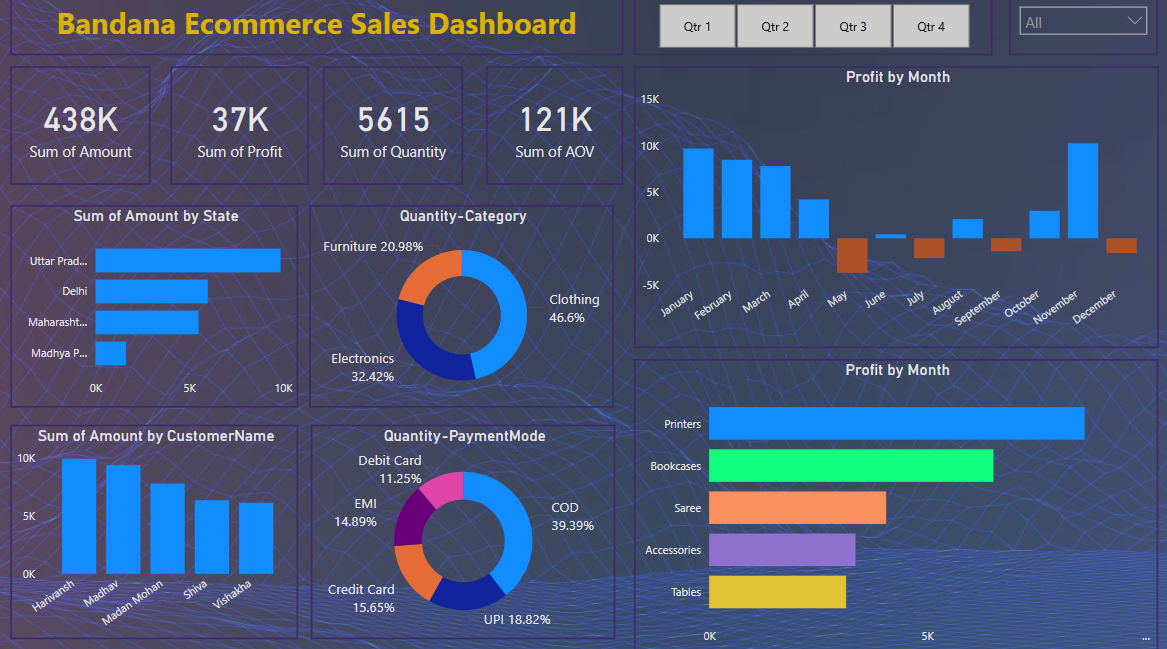

Layout of this report page (visuals, bound fields, positions):
{"tool":"powerbi","page":{"name":"Page 1","canvas":[1280,720],"ordinal":0},"visuals":[{"type":"columnChart","title":"Profit by Month","fields":{"Category":["Orders.Order Date.Variation.Date Hierarchy.Month"],"Y":["Sum(Details.Profit)"]},"box":[694.5,76,573.6,308.5],"z":0},{"type":"barChart","title":"Profit by Month","fields":{"Category":["Details.Sub-Category"],"Y":["Sum(Details.Profit)"]},"box":[695.1,396.1,572.8,324],"z":1000},{"type":"donutChart","title":"Quantity-Category","fields":{"Category":["Details.Category"],"Y":["Sum(Details.Quantity)"]},"box":[340,228.3,333.3,221.7],"z":2000},{"type":"donutChart","title":"Quantity-PaymentMode","fields":{"Y":["Sum(Details.Quantity)"],"Category":["Details.PaymentMode"]},"box":[341.7,468.3,333.3,235],"z":3000},{"type":"card","fields":{"Values":["Sum(Details.Quantity)"]},"box":[355,76.7,153.3,130],"z":4000},{"type":"card","fields":{"Values":["Sum(Details.Profit)"]},"box":[188.3,76.7,151.7,130],"z":5000},{"type":"card","fields":{"Values":["Sum(Details.AOV)"]},"box":[533.3,76.7,150,130],"z":6000},{"type":"card","fields":{"Values":["Sum(Details.Amount)"]},"box":[13.3,76.7,153.3,130],"z":7000},{"type":"textbox","box":[13.3,0,670,65],"z":8000},{"type":"barChart","fields":{"Y":["Sum(Details.Amount)"],"Category":["Orders.State"]},"box":[13.3,228.3,315,221.7],"z":9000},{"type":"columnChart","fields":{"Y":["Sum(Details.Amount)"],"Category":["Orders.CustomerName"]},"box":[13,468,315,235],"z":10000},{"type":"slicer","fields":{"Values":["Orders.Order Date.Variation.Date Hierarchy.Quarter"]},"box":[694.5,0,392.2,65.1],"z":11000},{"type":"slicer","fields":{"Values":["Orders.City"]},"box":[1105.3,0,162.8,65.1],"z":12000}]}

Visuals, with their boxes in screenshot pixels (x1, y1, x2, y2), scaled from the page's 1280x720 canvas onto the 1167x649 screenshot:
"Profit by Month" columnChart: <region>633, 69, 1156, 347</region>
"Profit by Month" barChart: <region>634, 357, 1156, 648</region>
"Quantity-Category" donutChart: <region>310, 206, 614, 406</region>
"Quantity-PaymentMode" donutChart: <region>312, 422, 615, 634</region>
card - Sum(Details.Quantity): <region>324, 69, 463, 186</region>
card - Sum(Details.Profit): <region>172, 69, 310, 186</region>
card - Sum(Details.AOV): <region>486, 69, 623, 186</region>
card - Sum(Details.Amount): <region>12, 69, 152, 186</region>
textbox: <region>12, 0, 623, 59</region>
barChart - Sum(Details.Amount) x Orders.State: <region>12, 206, 299, 406</region>
columnChart - Sum(Details.Amount) x Orders.CustomerName: <region>12, 422, 299, 634</region>
slicer - Orders.Order Date.Variation.Date Hierarchy.Quarter: <region>633, 0, 991, 59</region>
slicer - Orders.City: <region>1008, 0, 1156, 59</region>
